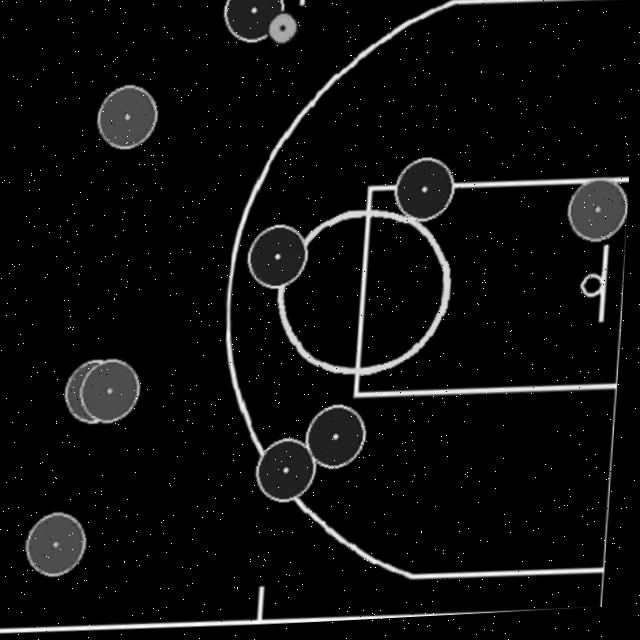Basketball: (268, 15, 298, 48)
Team_A: (249, 228, 310, 292), (310, 408, 370, 472), (396, 162, 455, 226), (260, 442, 320, 504), (224, 0, 283, 45)
Team_B: (68, 360, 143, 424), (68, 360, 136, 424), (30, 512, 91, 577), (97, 86, 158, 150), (569, 185, 630, 248)
